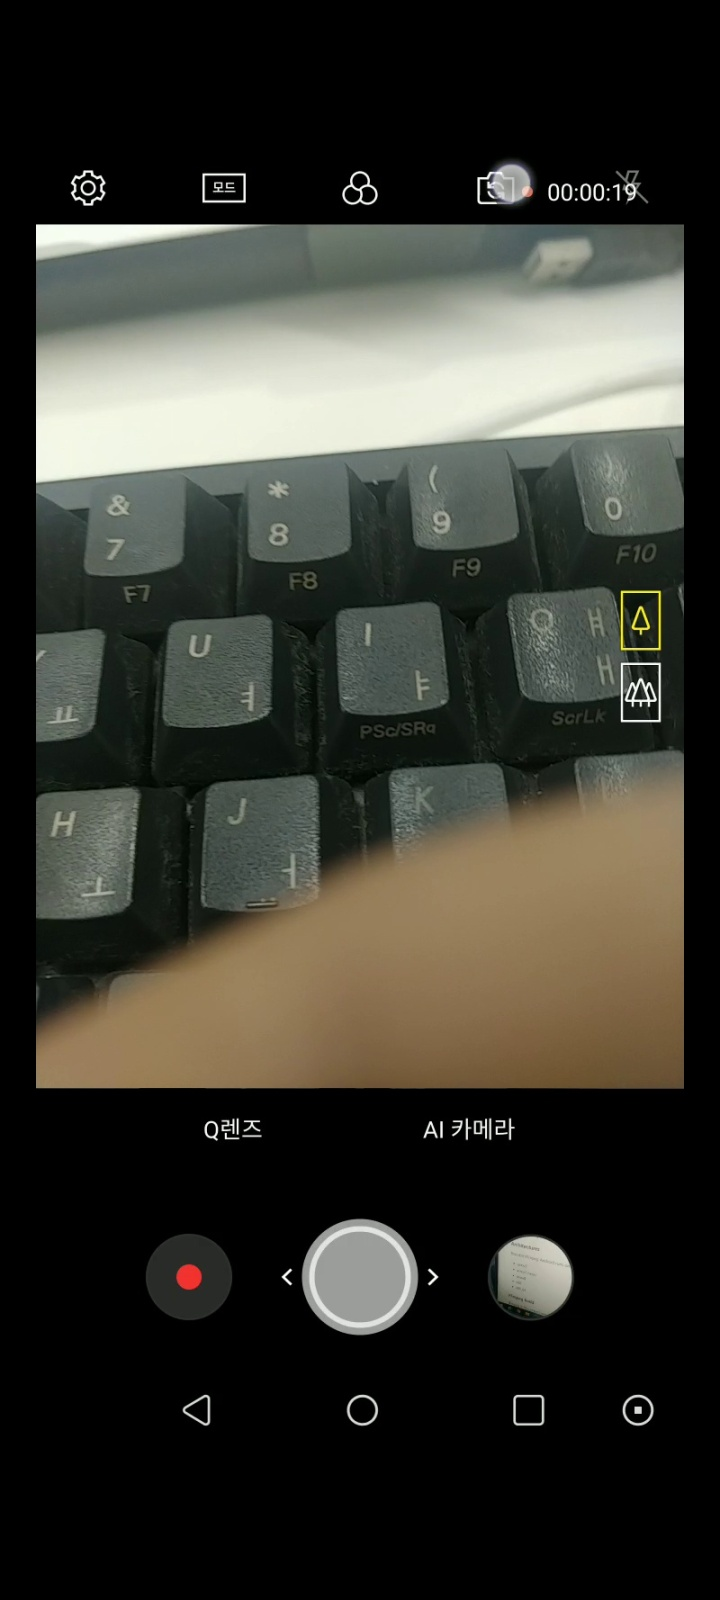Cursor: (488, 161, 534, 207)
